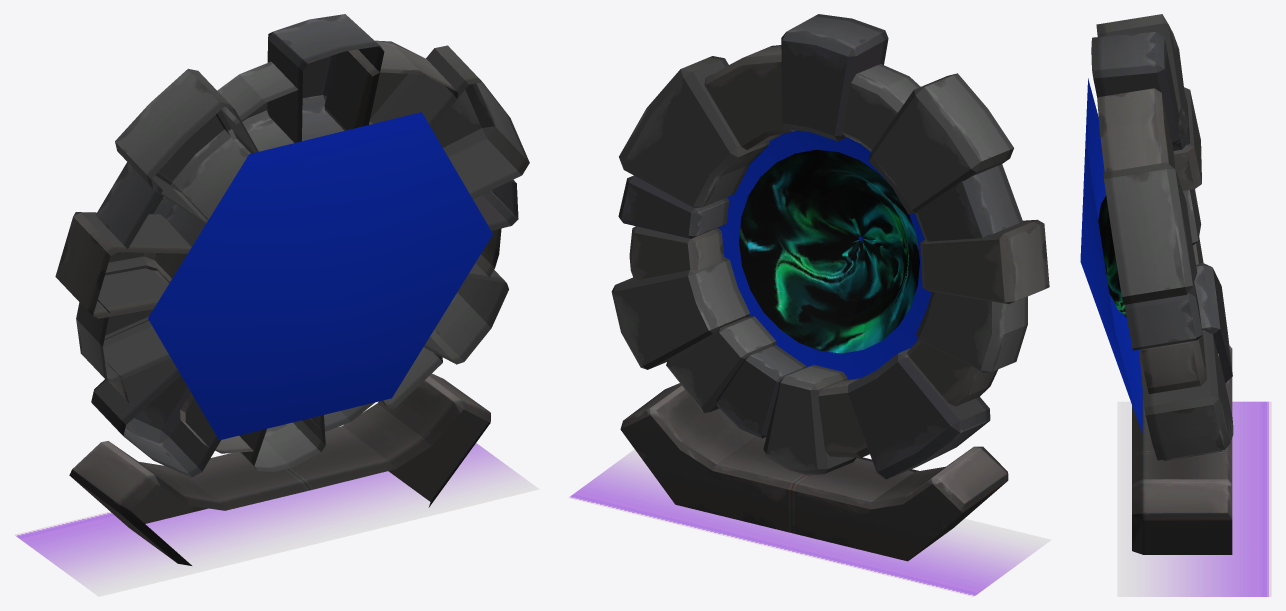
File: [gimmick]portal.fbx
The picture shows the model from 3 angles, left to right: view 1: azimuth 30°, elevation 25°; view 2: azimuth 150°, elevation 25°; view 3: azimuth 270°, elevation 25°; orthographic projection. The views are drawn at different scales.
Visible parts, largest first — view 1: [gimmick]portal_part_1, shadow, [gimmick]portal; view 2: [gimmick]portal_part_1, [gimmick]portal, mesh_aura, shadow; view 3: [gimmick]portal_part_1, shadow, [gimmick]portal, mesh_aura.
Part boxes in pixels (<box>): [gimmick]portal_part_1: <box>55,14,529,477</box>; shadow: <box>14,443,539,596</box>; [gimmick]portal: <box>69,373,490,565</box>; [gimmick]portal_part_1: <box>611,14,1049,479</box>; [gimmick]portal: <box>620,383,1008,561</box>; mesh_aura: <box>739,149,919,353</box>; shadow: <box>568,449,1051,596</box>; [gimmick]portal_part_1: <box>1080,14,1233,460</box>; shadow: <box>1117,401,1271,596</box>; [gimmick]portal: <box>1132,345,1232,554</box>; mesh_aura: <box>1098,195,1126,317</box>.
Size of the model in its own units: 3.61 by 3.99 by 1.49.
